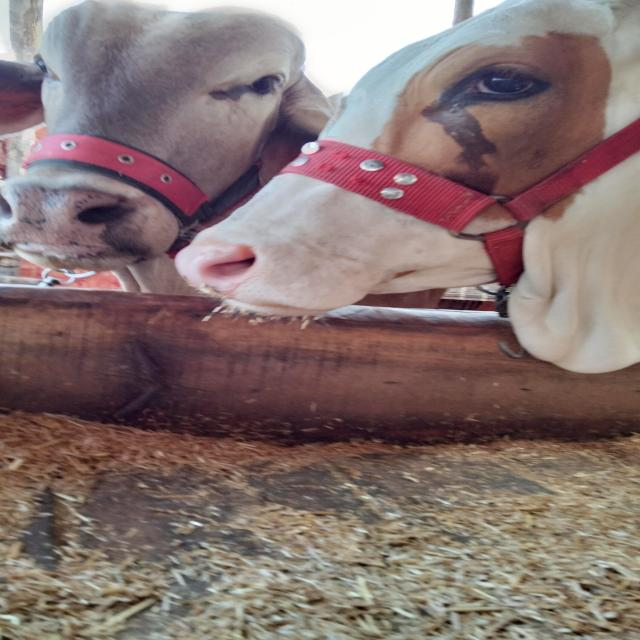muzzles: (0, 176, 154, 272), (169, 230, 273, 312)
